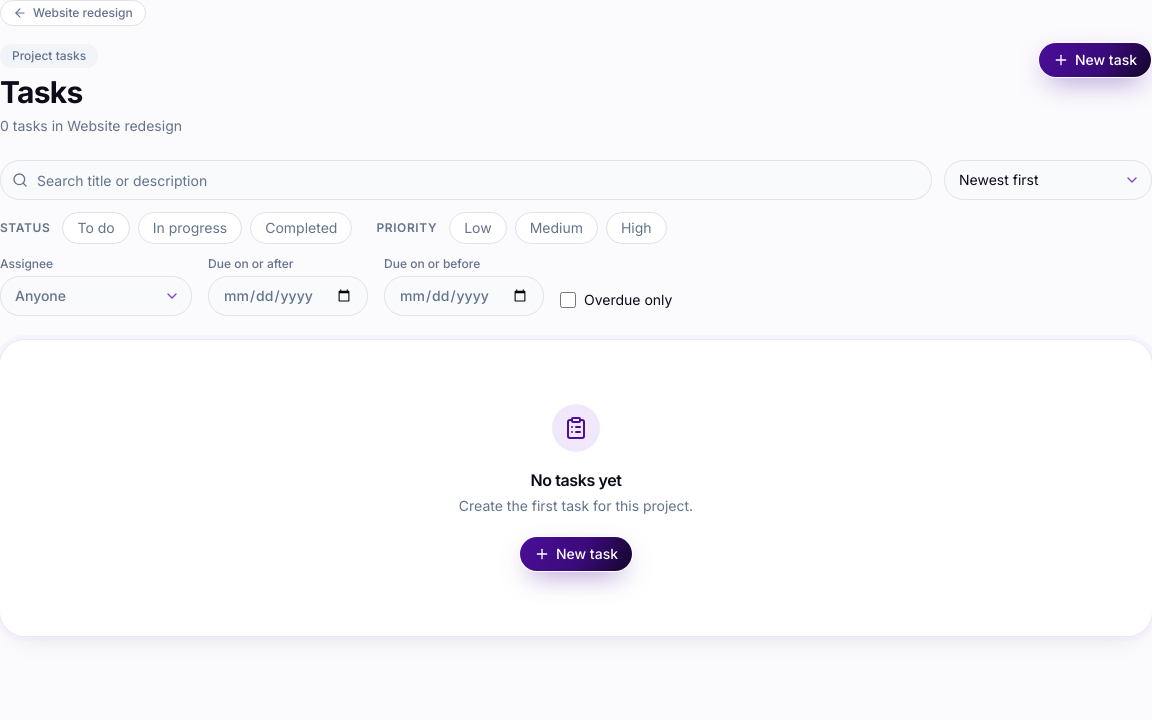
Scenario: create task › creates a task with every field and refreshes the list
The image size is (1152, 720).
Expected: the heading "Tasks" is shown, x1=0 y1=74 x2=82 y2=110
Click the button "New task" in the row of "Project tasks" at (1095, 60), box x1=1038 y1=42 x2=1151 y2=78
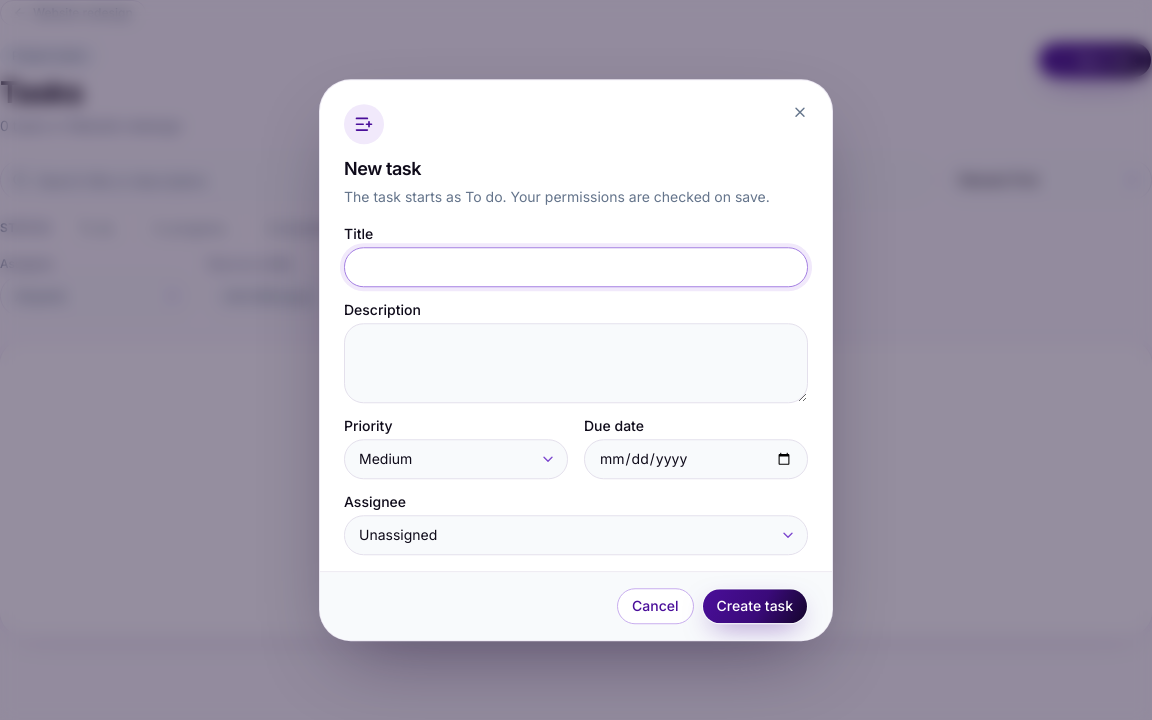
Type "  Plan launch  " into the field labelled "Title" at (576, 267), box x1=344 y1=247 x2=808 y2=287
Type "Everything we need" into the text box labelled "Description" at (576, 363), box x1=344 y1=323 x2=808 y2=403
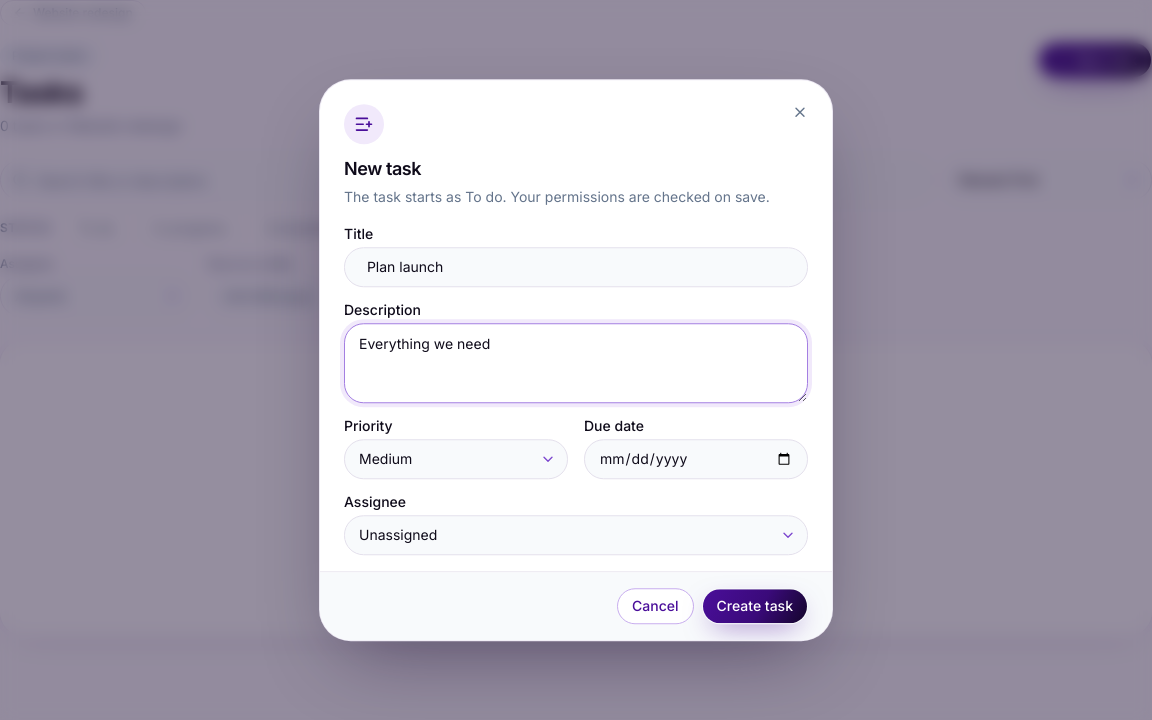
Select "High" in the dropdown labelled "Priority" at (456, 459), box x1=344 y1=439 x2=568 y2=479
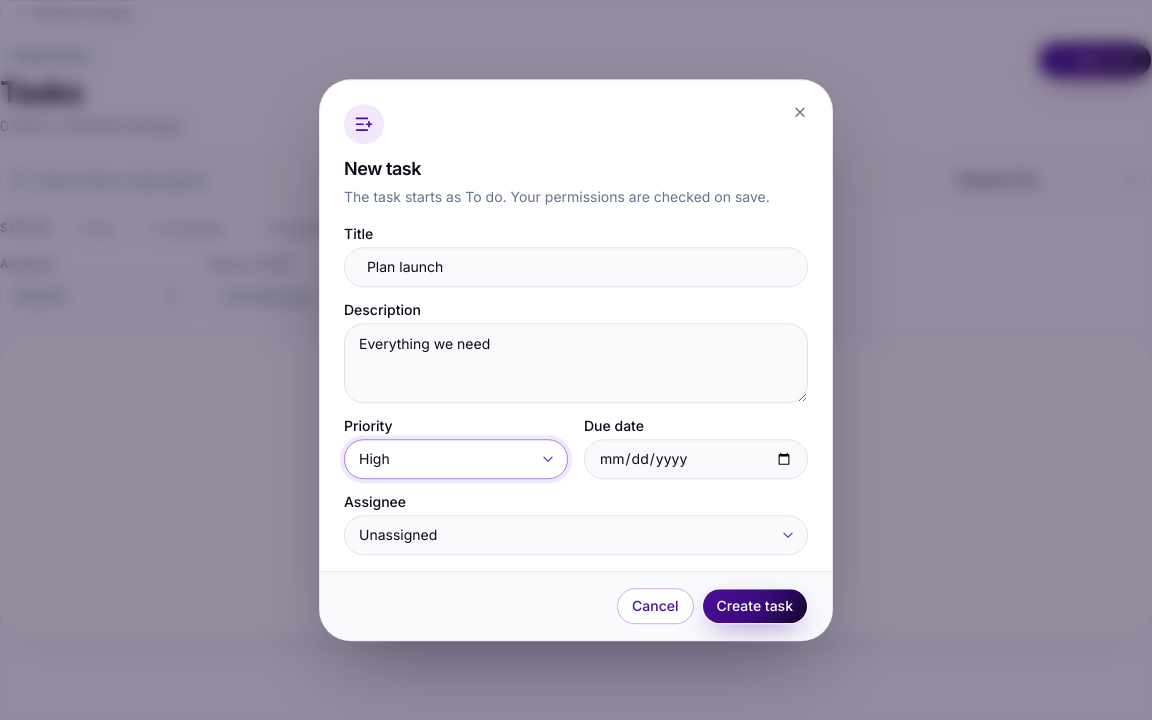
Type "2099-12-31" into the date field labelled "Due date" at (696, 459), box x1=584 y1=439 x2=808 y2=479
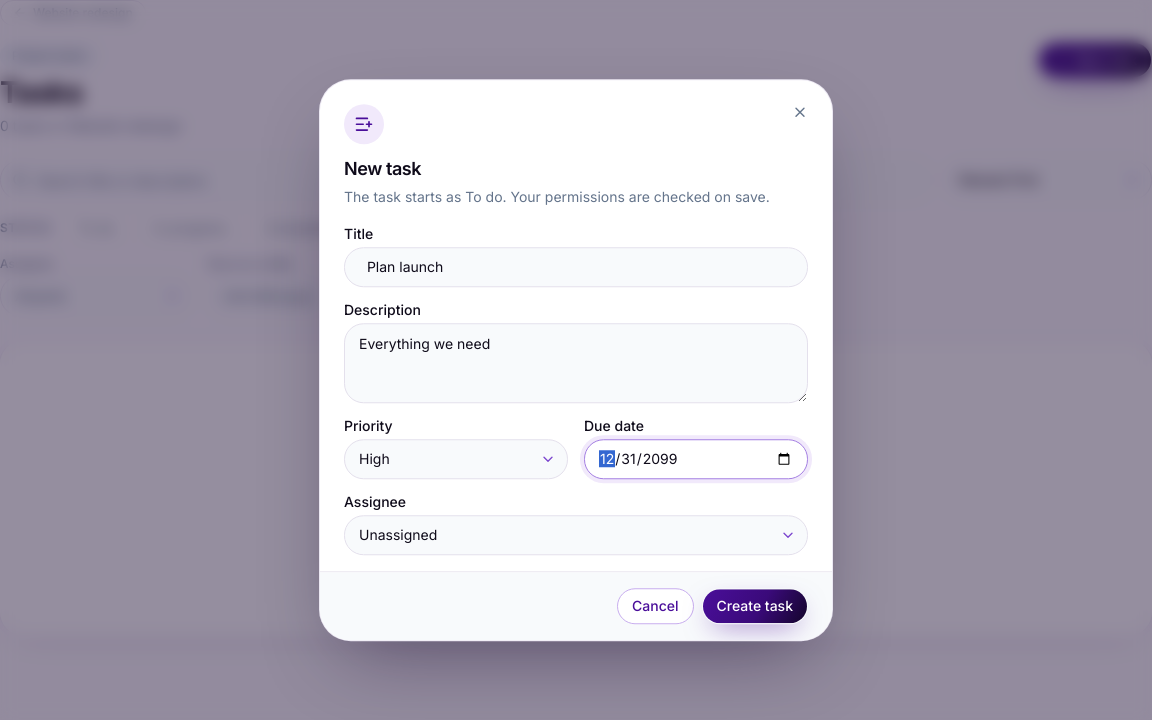
Select "Ben Carter" in the dropdown labelled "Assignee" at (576, 535), box x1=344 y1=515 x2=808 y2=555
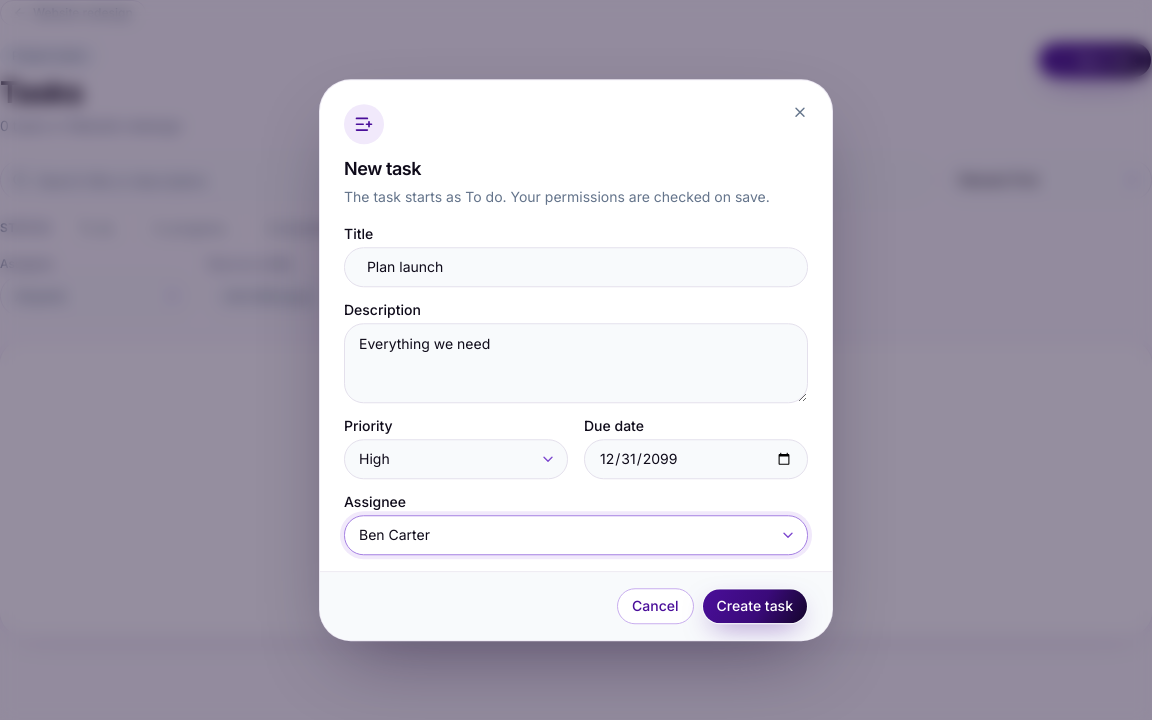
Click the button "Create task" at (755, 606), box x1=702 y1=588 x2=808 y2=624
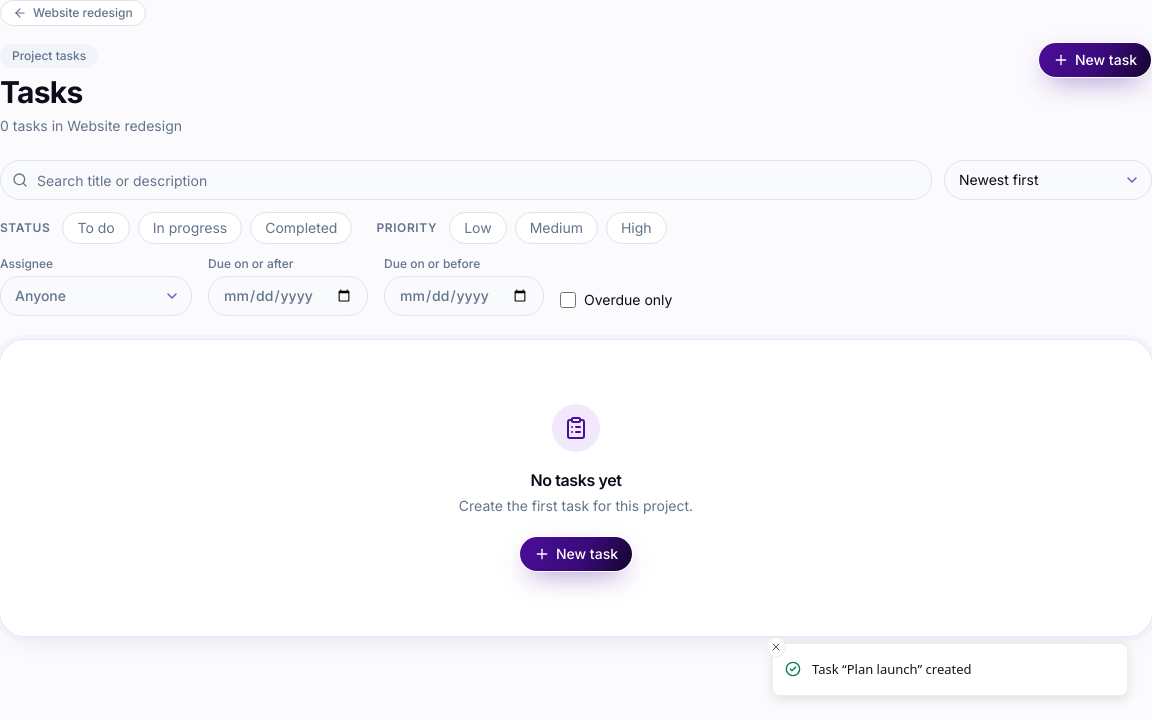
Expected: the dialog is gone
